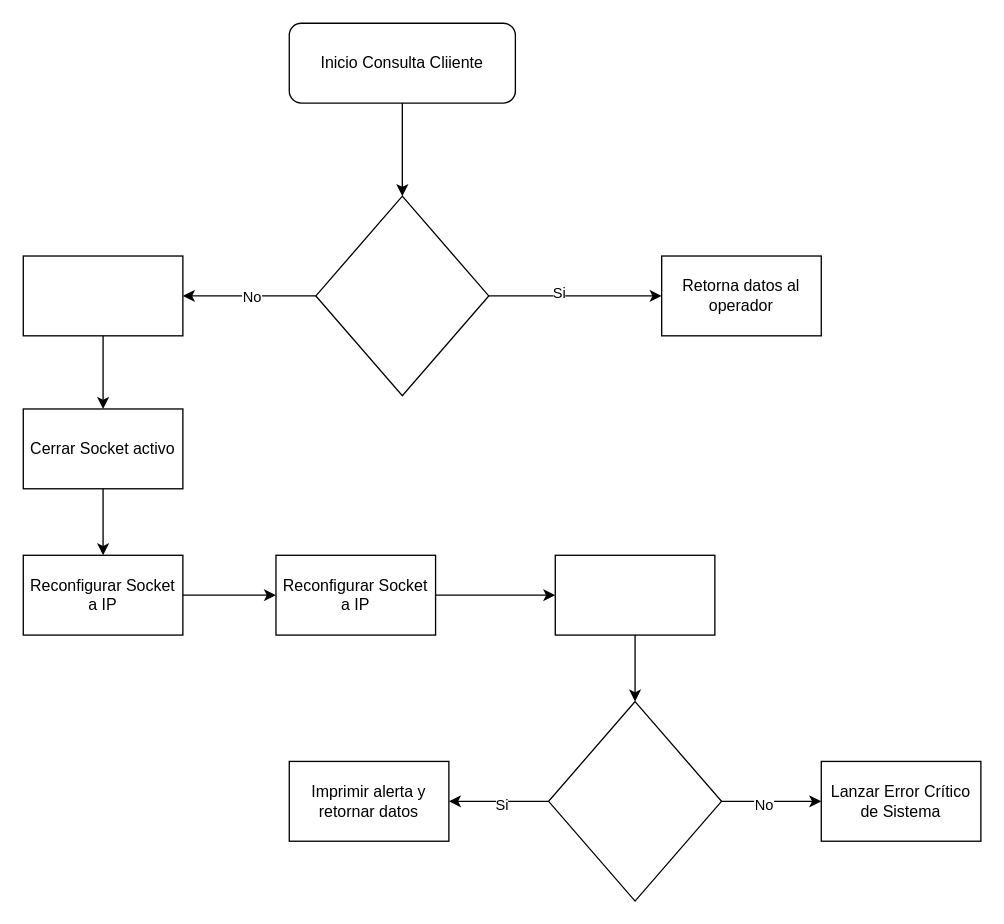
Some shapes in this 1004 by 924 pixel diagram are drawn without their labels. Each missing label, with the centre of its shape:
Activar protocolo FAILOVER: (x=102, y=295)
Reintentar consulta en Replica: (x=634, y=594)
¿BD Principal Responde en el tiempo establecio?: (x=402, y=295)
¿Replica responde en el tiempo establecido?: (x=634, y=800)
